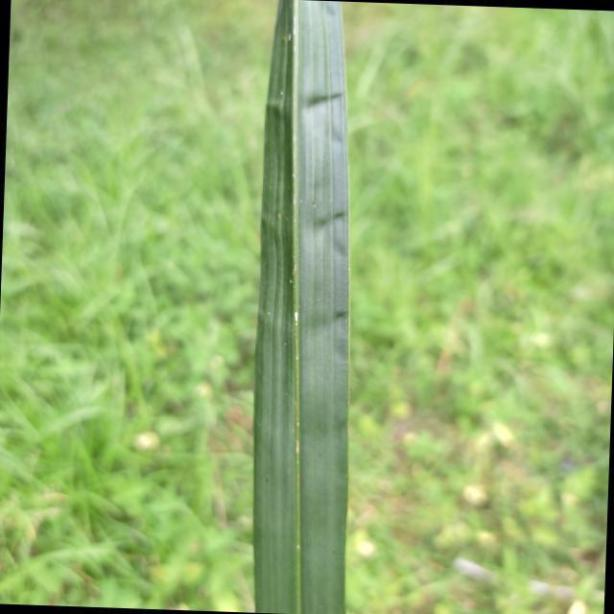Boron: (251, 0, 350, 614)
